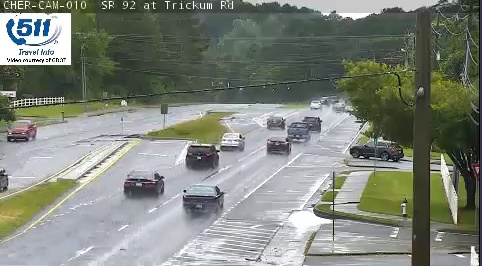car: (183, 185, 223, 212), (123, 170, 165, 195), (186, 143, 218, 167), (220, 132, 244, 150), (288, 122, 310, 140), (267, 136, 291, 152), (303, 116, 321, 132), (267, 116, 284, 129)
